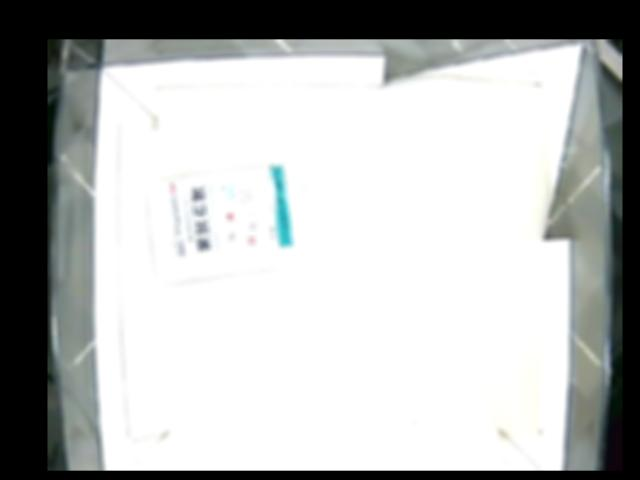Medicine: (145, 157, 312, 281)
